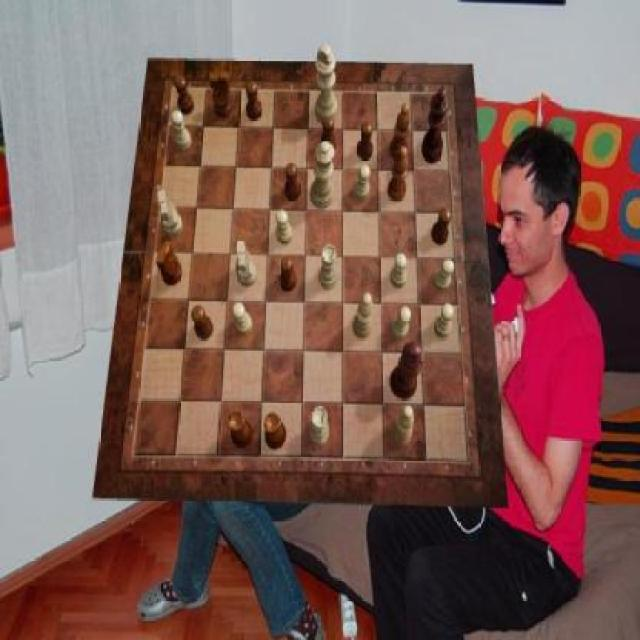bishop: (391, 103, 411, 161), (388, 148, 408, 202)
black-bishop: (423, 84, 451, 164)
black-king: (157, 240, 183, 285), (209, 72, 233, 120)
black-knight: (192, 305, 215, 339), (432, 206, 452, 244), (176, 77, 196, 115), (357, 123, 374, 162), (246, 82, 263, 120), (284, 163, 300, 202), (320, 117, 336, 155), (279, 257, 296, 291)
black-pawn: (391, 342, 426, 399)
black-queen: (228, 411, 254, 448), (264, 412, 288, 450)
black-rook: (391, 405, 414, 446), (354, 292, 374, 338)
white-bishop: (316, 45, 338, 126)
white-king: (159, 191, 183, 238), (236, 240, 256, 286)
white-knight: (172, 111, 192, 151), (432, 260, 455, 292), (391, 306, 411, 341), (434, 303, 454, 338), (234, 302, 254, 336), (390, 252, 408, 287), (354, 166, 371, 202), (277, 209, 294, 244)
white-pawn: (311, 142, 335, 209)
white-queen: (318, 245, 338, 290), (309, 406, 330, 446)
